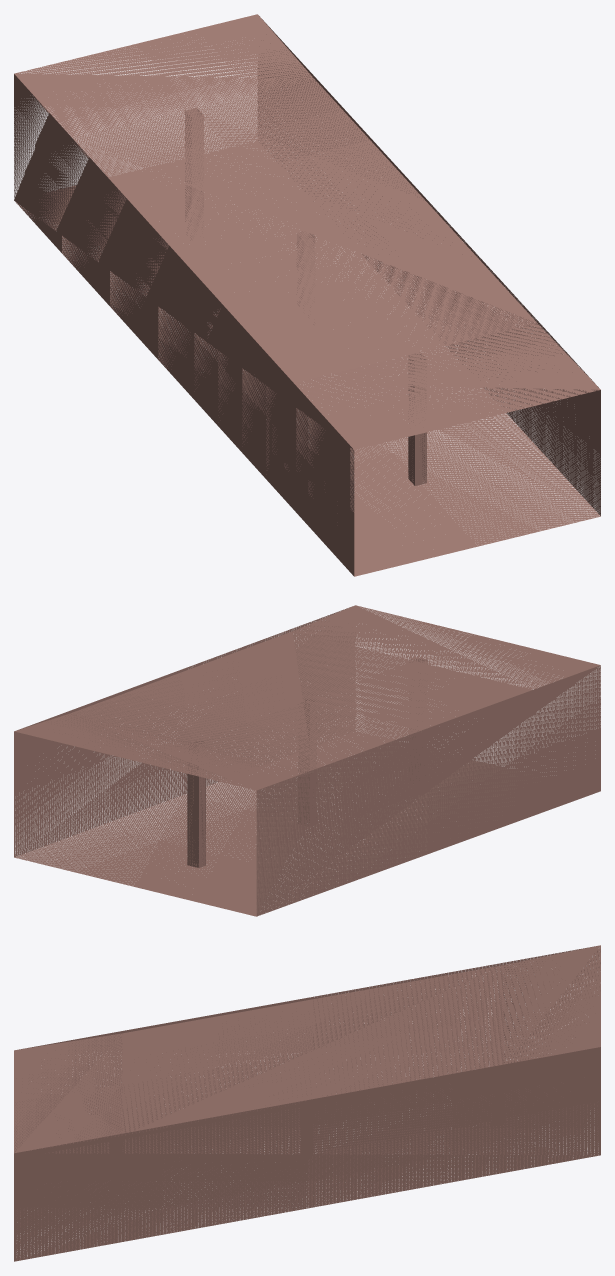
Rendered from SW_ENV_RailTunnel_TrackRise_Double_20m_FF_Collision.fbx.
3 renders of one model, top to bottom at view 1: azimuth 30°, elevation 25°; view 2: azimuth 150°, elevation 25°; view 3: azimuth 270°, elevation 25°, orthographic. The views are drawn at different scales.
Visible parts, largest first — view 1: SW_ENV_RailTunnel_TrackRise_Double_20m_FF_Collision; view 2: SW_ENV_RailTunnel_TrackRise_Double_20m_FF_Collision; view 3: SW_ENV_RailTunnel_TrackRise_Double_20m_FF_Collision.
Part boxes in pixels (left/top/right/bottom): SW_ENV_RailTunnel_TrackRise_Double_20m_FF_Collision: left=14, top=14, right=600, bottom=576; SW_ENV_RailTunnel_TrackRise_Double_20m_FF_Collision: left=14, top=605, right=600, bottom=916; SW_ENV_RailTunnel_TrackRise_Double_20m_FF_Collision: left=14, top=945, right=600, bottom=1261.
Bounding box in the file's own units: 830 × 808 × 2000.
